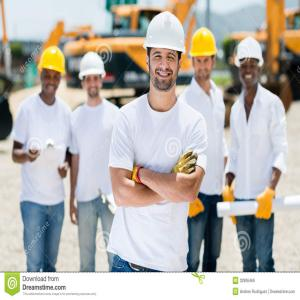white: (147, 13, 185, 93), (237, 39, 263, 87), (81, 52, 106, 99)
yellow: (191, 28, 217, 81), (39, 48, 65, 97)
